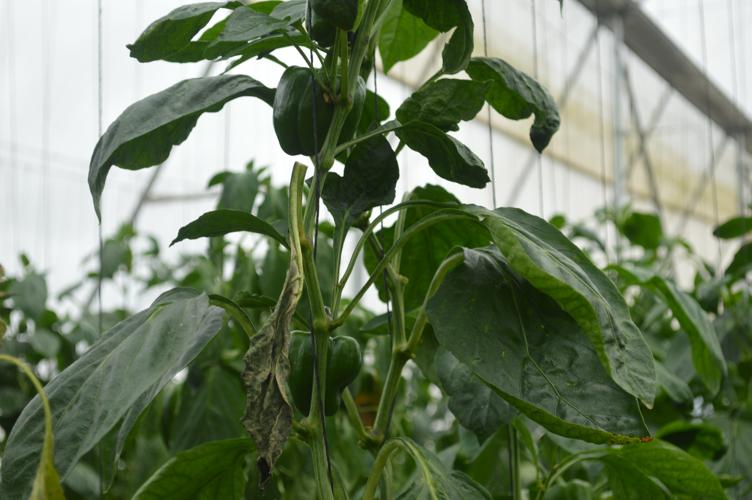BellPepper: (275, 64, 367, 157), (285, 331, 366, 414)
